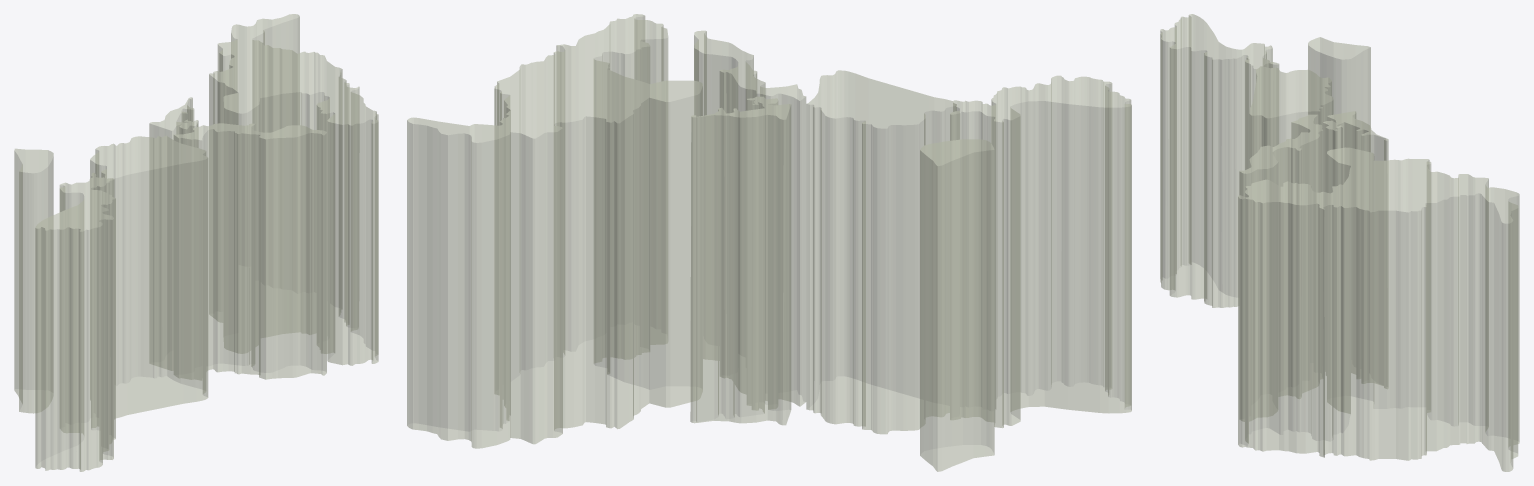
Rendered from developement_area_2_0.glb.
3 views of the same model, side by side, from view 1: azimuth 30°, elevation 25°; view 2: azimuth 150°, elevation 25°; view 3: azimuth 270°, elevation 25° (orthographic). The views are drawn at different scales.
Visible parts, largest first — view 1: from extrude_5, from extrude_4, from extrude_1, from extrude_2, from extrude, from extrude_3; view 2: from extrude_5, from extrude_2, from extrude_1, from extrude_3, from extrude_4, from extrude; view 3: from extrude_5, from extrude_2, from extrude_4, from extrude_3, from extrude_1, from extrude.
Part boxes in pixels (x1=…): from extrude_5: x1=209, y1=14, x2=378, y2=365; from extrude_4: x1=173, y1=123, x2=326, y2=380; from extrude_1: x1=90, y1=135, x2=208, y2=418; from extrude_2: x1=35, y1=172, x2=115, y2=471; from extrude: x1=14, y1=148, x2=53, y2=413; from extrude_3: x1=149, y1=97, x2=198, y2=370; from extrude_5: x1=407, y1=14, x2=702, y2=448; from extrude_2: x1=950, y1=75, x2=1131, y2=427; from extrude_1: x1=806, y1=70, x2=956, y2=434; from extrude_3: x1=690, y1=96, x2=791, y2=425; from extrude_4: x1=694, y1=30, x2=806, y2=406; from extrude: x1=920, y1=139, x2=994, y2=471; from extrude_5: x1=1238, y1=147, x2=1519, y2=471; from extrude_2: x1=1160, y1=14, x2=1279, y2=307; from extrude_4: x1=1239, y1=114, x2=1323, y2=421; from extrude_3: x1=1322, y1=111, x2=1388, y2=388; from extrude_1: x1=1249, y1=66, x2=1333, y2=191; from extrude: x1=1308, y1=37, x2=1370, y2=151.
Size of the model in its own units: 3.62 by 2 by 2.62.
